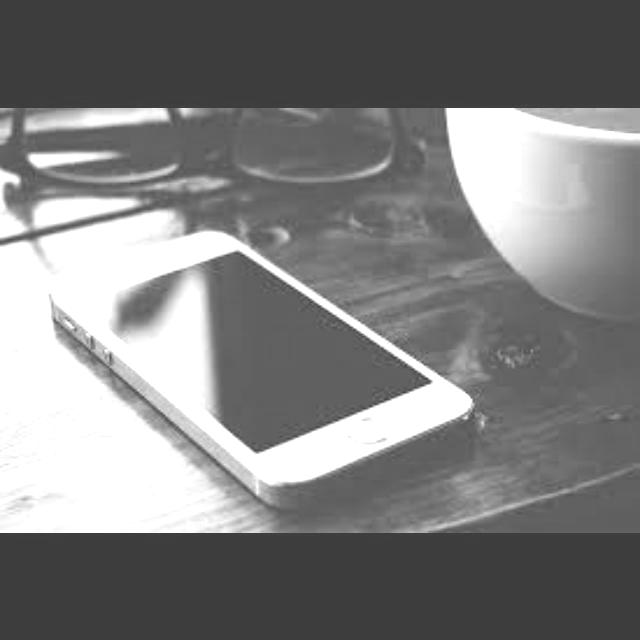fake: (2, 218, 599, 526)
